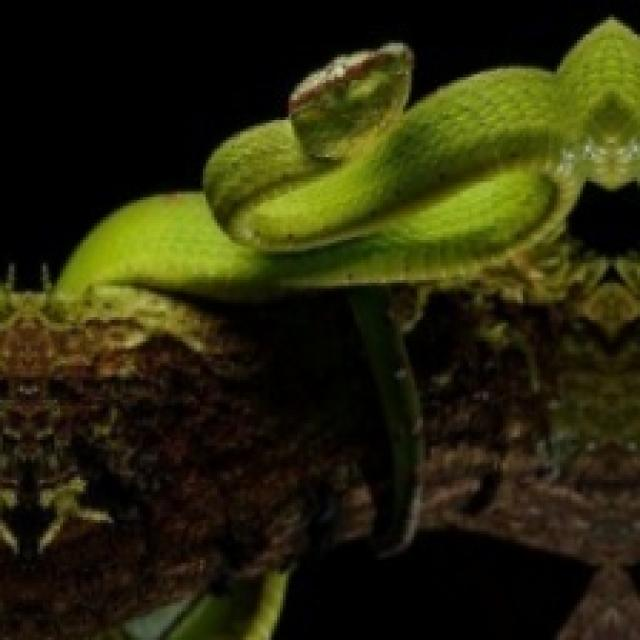north ph temple pitviper: (51, 20, 637, 563)
